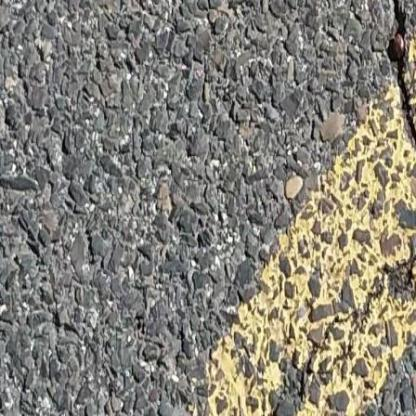Cracks: (265, 212, 416, 416), (333, 6, 416, 147)
